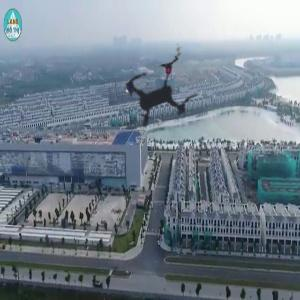drone: (84, 22, 238, 176)
